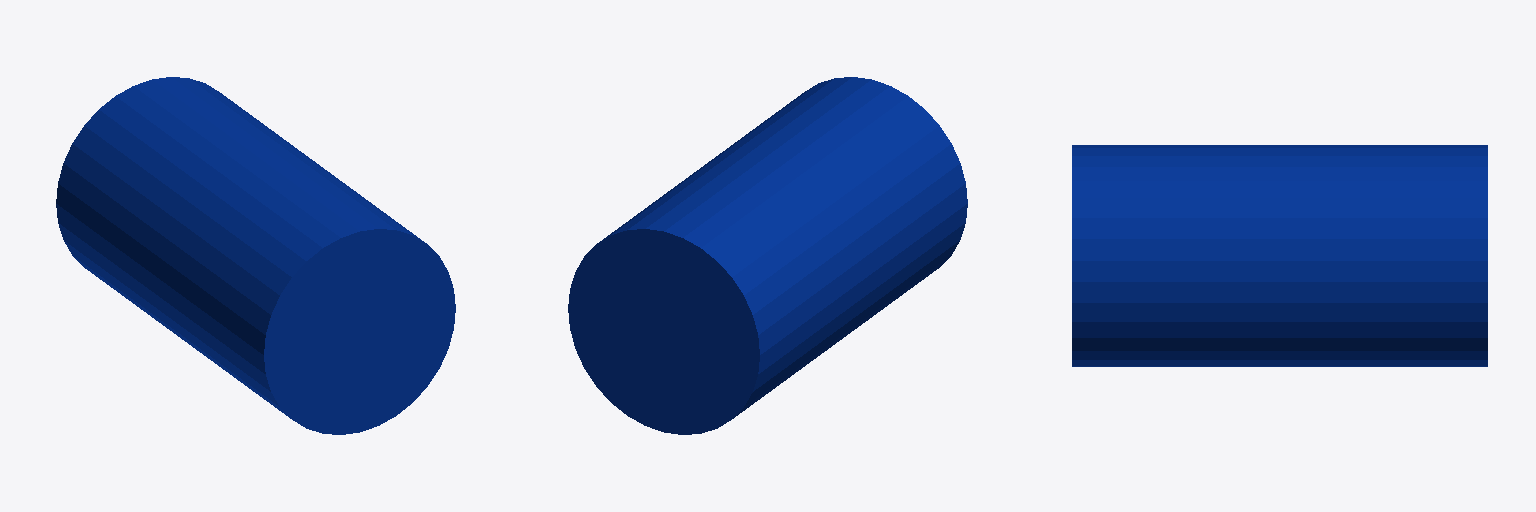
The model's file is arm_link6.OBJ.
The picture shows the model from 3 angles: view 1: azimuth 30°, elevation 25°; view 2: azimuth 150°, elevation 25°; view 3: azimuth 270°, elevation 25°; orthographic projection.
Visible parts, largest first — view 1: arm_link6_Cylinder.006; view 2: arm_link6_Cylinder.006; view 3: arm_link6_Cylinder.006.
Boxes of the visible parts, <box> form: arm_link6_Cylinder.006: <box>56,77,455,434</box>; arm_link6_Cylinder.006: <box>568,77,967,434</box>; arm_link6_Cylinder.006: <box>1072,145,1487,366</box>.
Bounding box in the file's own units: 0.2494 × 0.2494 × 0.4674.